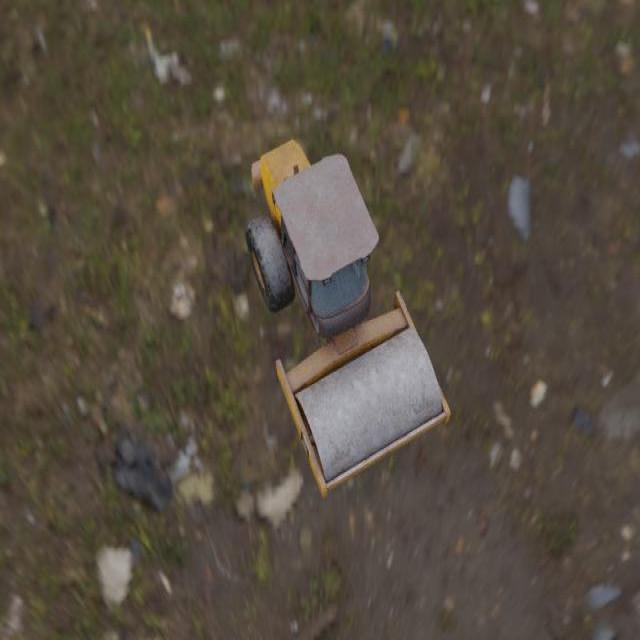Roller: (244, 138, 450, 498)
